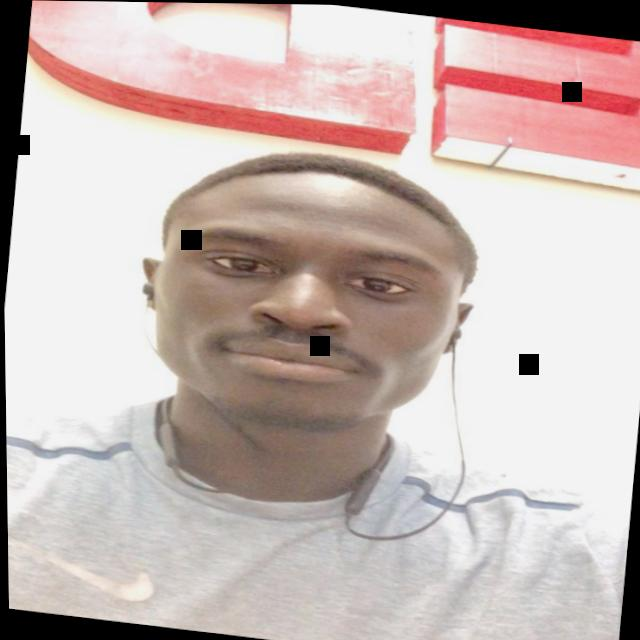NO-Mask: (127, 155, 483, 449)
